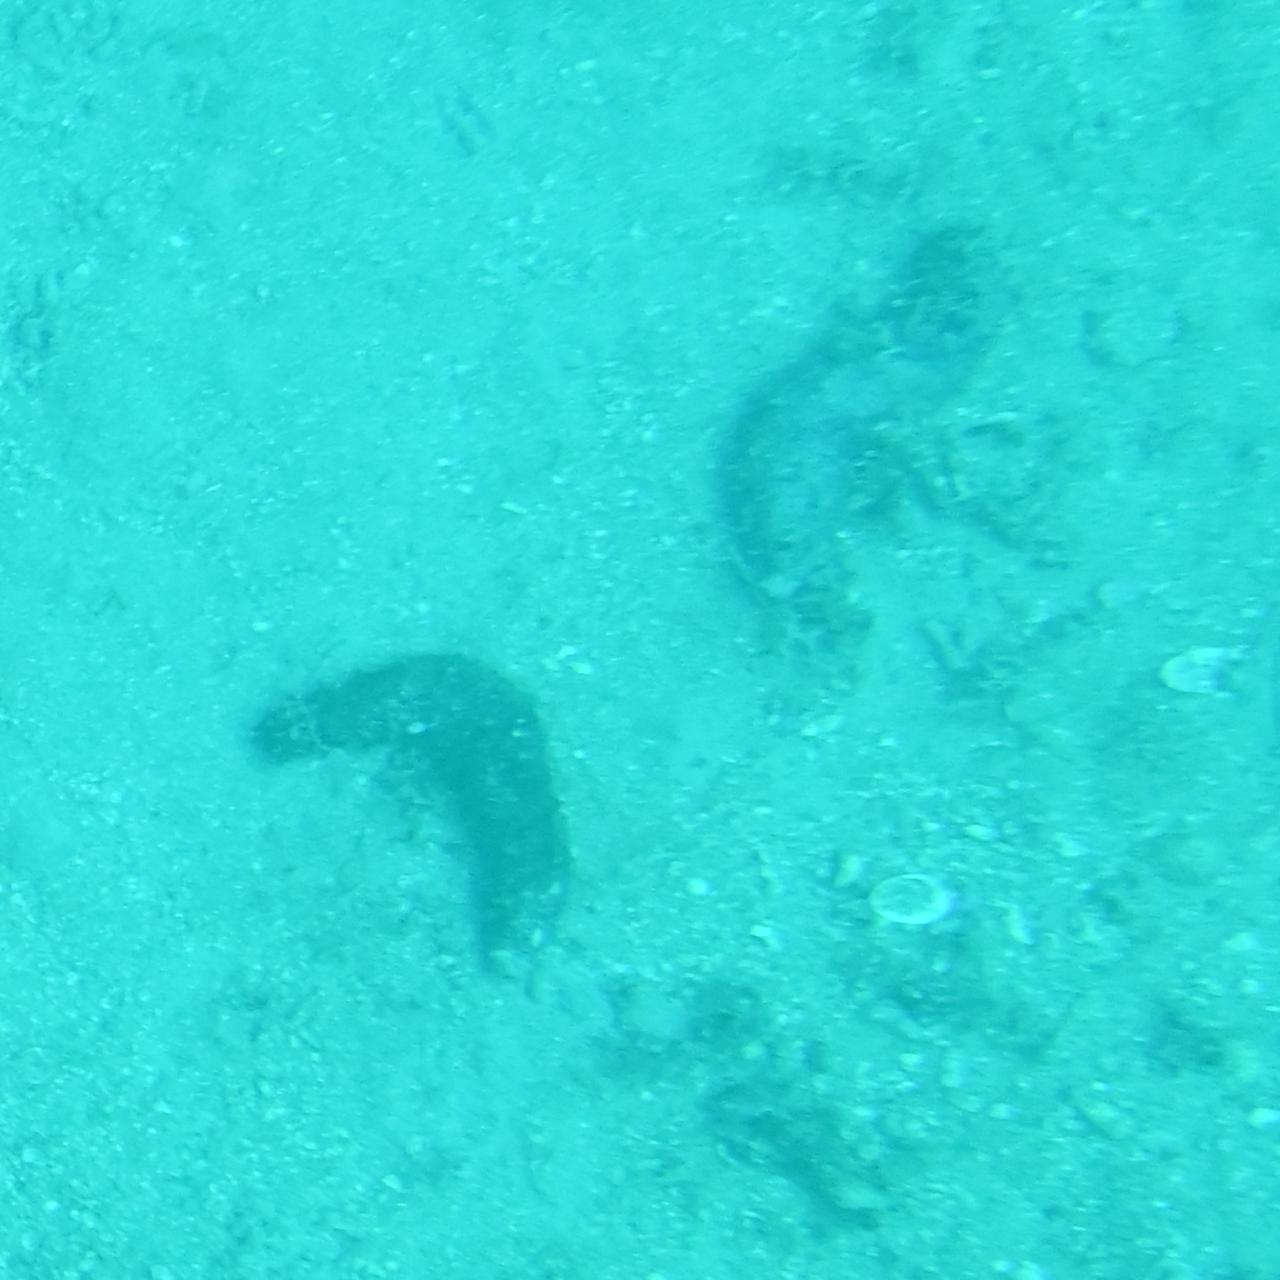Holothuria tubulosa: (723, 225, 998, 674), (243, 660, 597, 1000)
